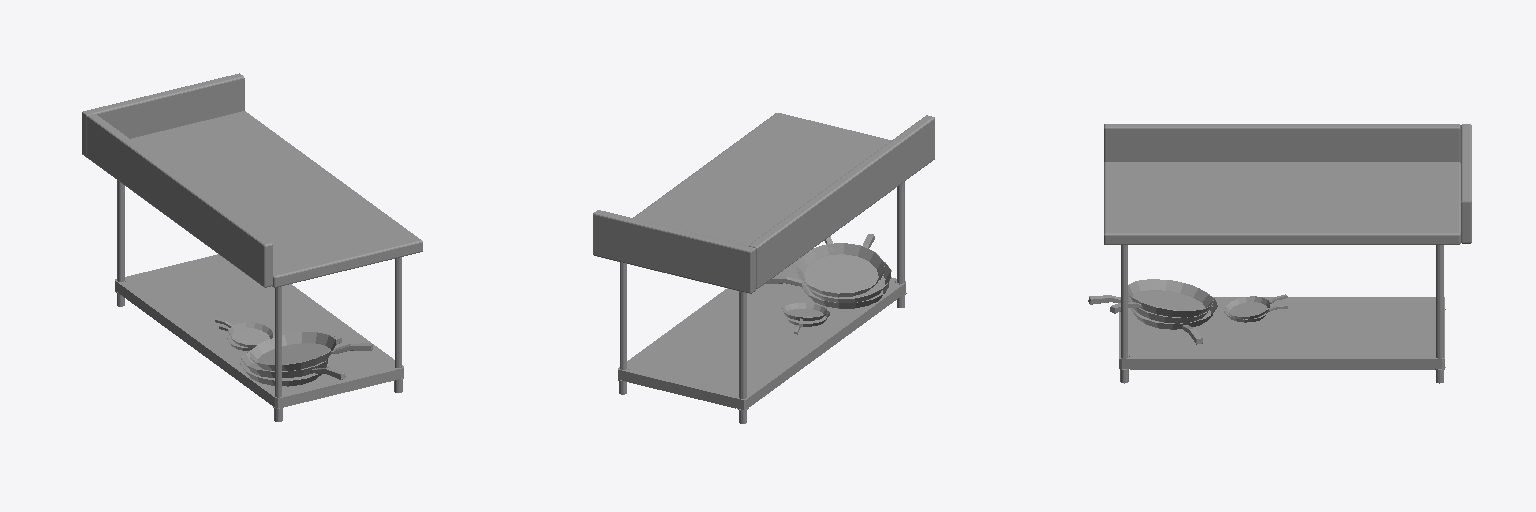
File: counter02.obj
The picture shows the model from 3 angles: view 1: azimuth 30°, elevation 25°; view 2: azimuth 150°, elevation 25°; view 3: azimuth 270°, elevation 25°; orthographic projection.
Parts seen in each view (by area): view 1: Cube.093_Cube.028, Cube.094_Cube.029, Cube.095_Cube.030, Cube.144_Cube.005, Circle.204_Circle.191, Cylinder.301_Cylinder.372, Cylinder.306_Cylinder.373, Cylinder.307_Cylinder.374, Circle.206_Circle.199, Circle.203_Circle.187; view 2: Cube.094_Cube.029, Cube.093_Cube.028, Cube.095_Cube.030, Cube.144_Cube.005, Circle.204_Circle.191, Cylinder.307_Cylinder.374, Cylinder.301_Cylinder.372, Cylinder.308_Cylinder.375, Circle.203_Circle.187, Circle.206_Circle.199; view 3: Cube.093_Cube.028, Cube.094_Cube.029, Cube.095_Cube.030, Circle.204_Circle.191, Cube.144_Cube.005, Cylinder.308_Cylinder.375, Cylinder.306_Cylinder.373, Circle.206_Circle.199.
Part boxes in pixels (x1,y1,x2,y2): Cube.093_Cube.028: (131,111,422,287); Cube.094_Cube.029: (119,254,395,406); Cube.095_Cube.030: (87,114,272,287); Cube.144_Cube.005: (82,73,244,157); Circle.204_Circle.191: (250,332,335,370); Cylinder.301_Cylinder.372: (273,286,283,421); Cylinder.306_Cylinder.373: (394,257,403,392); Cylinder.307_Cylinder.374: (115,180,124,306); Circle.206_Circle.199: (228,322,273,347); Circle.203_Circle.187: (243,352,329,377); Cube.094_Cube.029: (626,258,902,408); Cube.093_Cube.028: (633,113,891,245); Cube.095_Cube.030: (749,115,934,288); Cube.144_Cube.005: (593,210,755,293); Circle.204_Circle.191: (797,243,884,297); Cylinder.307_Cylinder.374: (738,291,748,423); Cylinder.301_Cylinder.372: (897,182,906,307); Cylinder.308_Cylinder.375: (618,262,626,394); Circle.203_Circle.187: (804,262,891,302); Circle.206_Circle.199: (782,303,827,320); Cube.093_Cube.028: (1104,162,1460,244); Cube.094_Cube.029: (1119,297,1444,369); Cube.095_Cube.030: (1104,124,1460,162); Circle.204_Circle.191: (1128,279,1213,317); Cube.144_Cube.005: (1461,124,1471,243); Cylinder.308_Cylinder.375: (1435,245,1445,383); Cylinder.306_Cylinder.373: (1120,245,1128,383); Circle.206_Circle.199: (1225,296,1270,319).
Bounding box in the file's own units: 2.61 × 2.95 × 5.44.